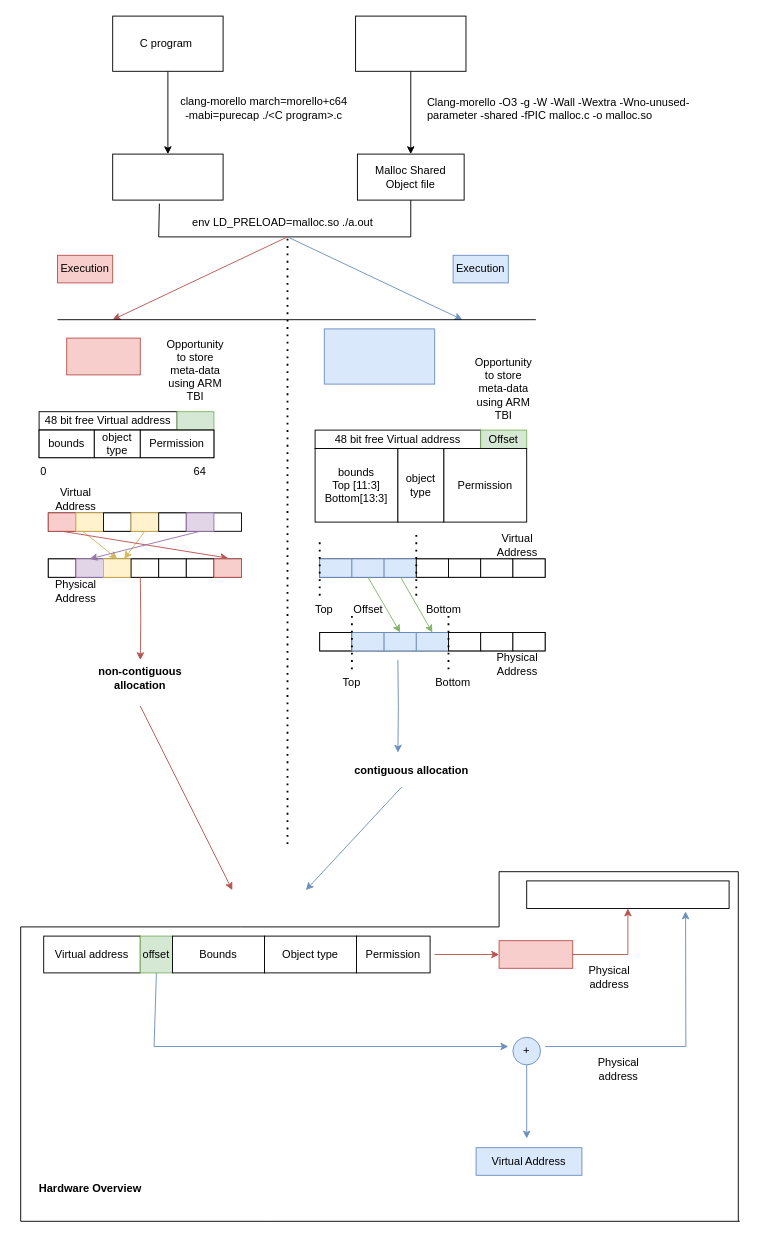
The diagram is 757 pixels wide and 1238 high, and some of its shapes have lost their labels. Here are the shapes that lost their labels. From the top down, the centre of each, then its label:
At (x=410, y=43): "Custom Allocator".
At (x=167, y=176): "Pure Cap binary".
At (x=103, y=356): "Standard mmap()".
At (x=379, y=356): "Current proposal mmap_range()".
At (x=627, y=894): "L1 Cache".
At (x=535, y=954): "Page TLB".
